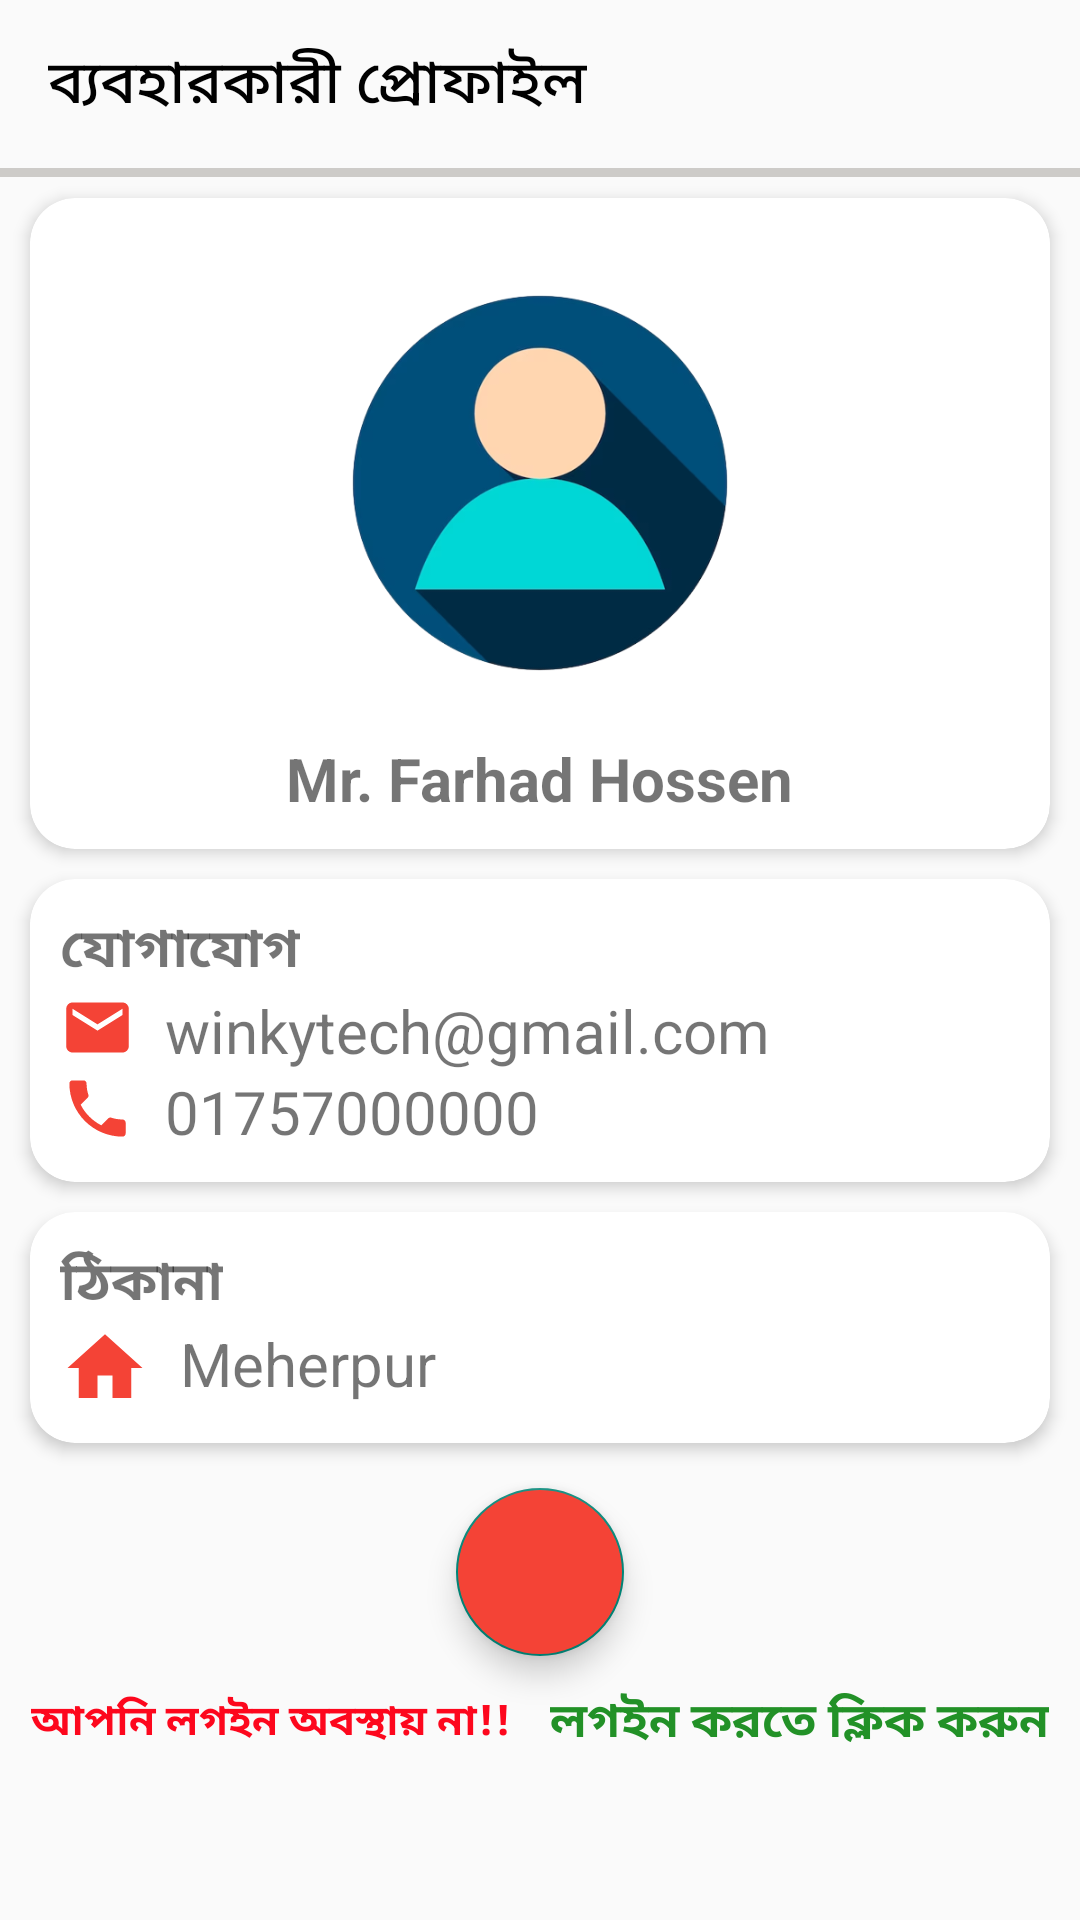

Named icons in this screenshot (1080 x 1920) and their bounding boxes, region(x1, y1, x2, y2):
email: region(66, 1002, 129, 1053)
home: region(68, 1334, 142, 1398)
phone: region(69, 1080, 126, 1137)
